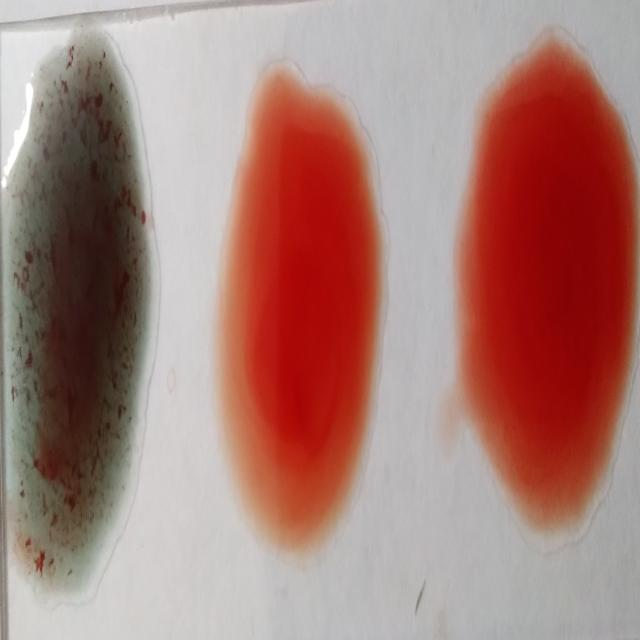A: (0, 32, 162, 618)
